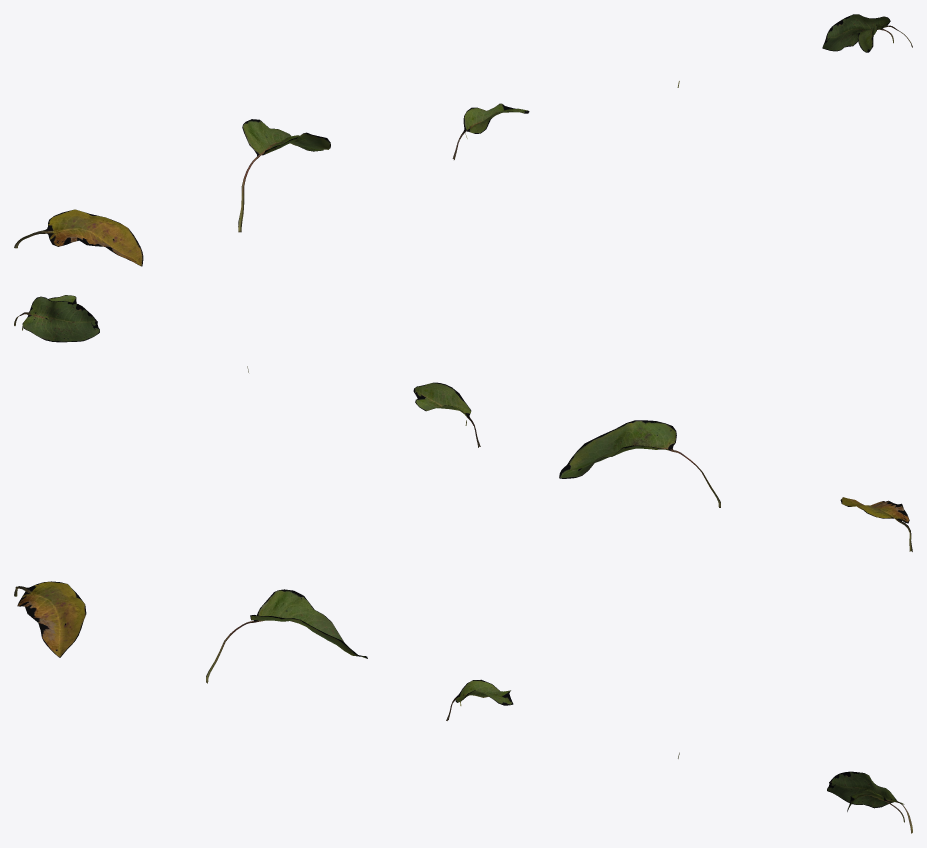
The model's file is weed_plant_02.glb.
The picture shows the model from 3 angles, top to bottom: view 1: azimuth 30°, elevation 25°; view 2: azimuth 150°, elevation 25°; view 3: azimuth 330°, elevation 25°; orthographic projection. The views are drawn at different scales.
Parts seen in each view (by area): view 1: weed_plant_02_a_LOD0, weed_plant_02_b_LOD0, weed_plant_02_e_LOD0, weed_plant_02_c_LOD0; view 2: weed_plant_02_b_LOD0, weed_plant_02_e_LOD0, weed_plant_02_c_LOD0, weed_plant_02_a_LOD0; view 3: weed_plant_02_a_LOD0, weed_plant_02_b_LOD0, weed_plant_02_e_LOD0, weed_plant_02_c_LOD0.
Boxes of the visible parts, x1,y1,x2,y2 form: weed_plant_02_a_LOD0: [14, 209, 143, 266]; weed_plant_02_b_LOD0: [238, 119, 330, 232]; weed_plant_02_e_LOD0: [822, 14, 912, 52]; weed_plant_02_c_LOD0: [452, 103, 529, 159]; weed_plant_02_b_LOD0: [559, 420, 720, 507]; weed_plant_02_e_LOD0: [14, 295, 99, 342]; weed_plant_02_c_LOD0: [413, 382, 480, 447]; weed_plant_02_a_LOD0: [840, 497, 912, 551]; weed_plant_02_a_LOD0: [14, 581, 86, 657]; weed_plant_02_b_LOD0: [206, 589, 367, 683]; weed_plant_02_e_LOD0: [827, 771, 912, 833]; weed_plant_02_c_LOD0: [446, 679, 513, 720].
Bounding box in the file's own units: 2.11 × 0.1725 × 0.2555.
1 material, 1 textured.
